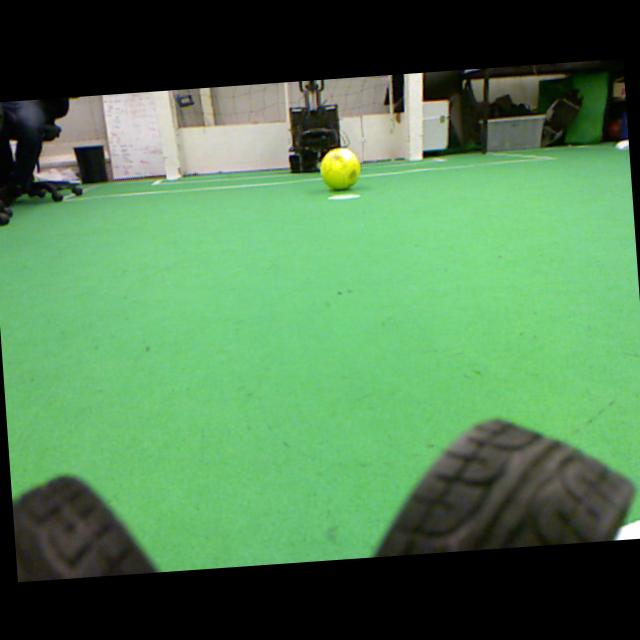ball: (321, 147, 360, 189)
goal: (154, 90, 179, 180), (409, 73, 423, 161)
robot: (288, 79, 347, 173)
